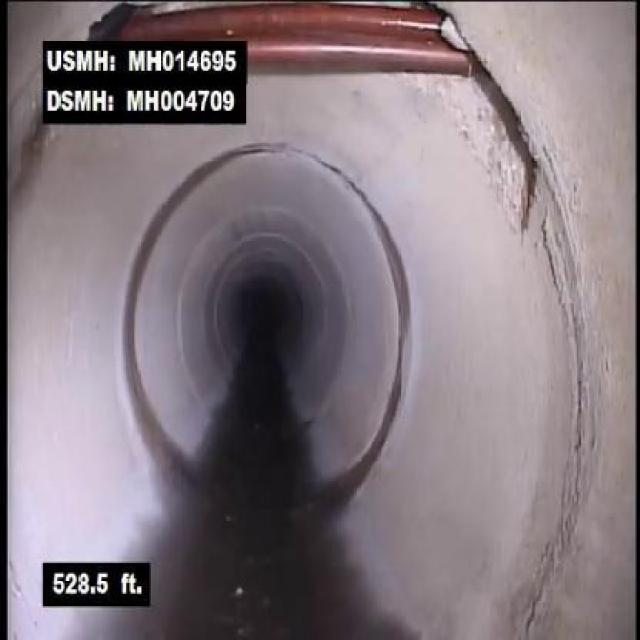Utility intrusion: (88, 0, 489, 83)
